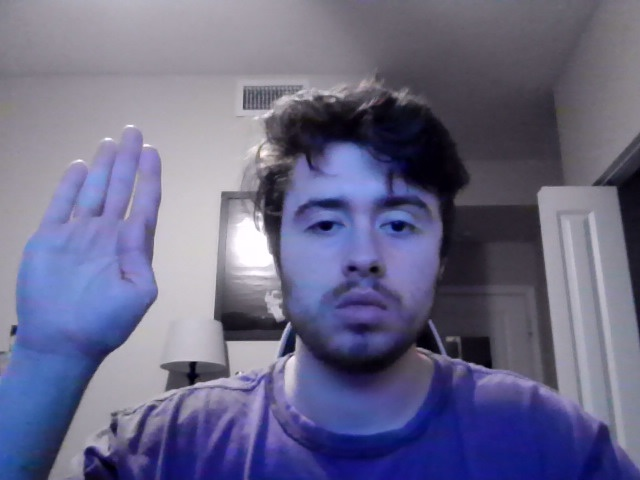b: (14, 123, 163, 367)
